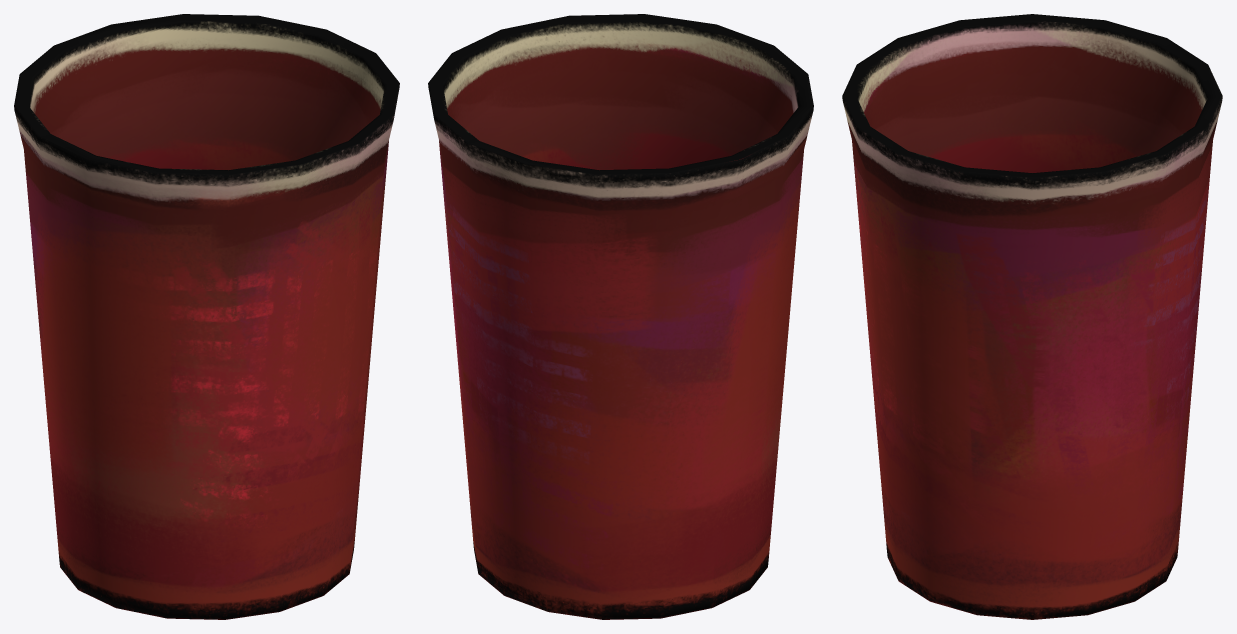
Rendered from redcup.glb.
3 views of the same model, side by side, from view 1: azimuth 30°, elevation 25°; view 2: azimuth 150°, elevation 25°; view 3: azimuth 270°, elevation 25° (orthographic).
Visible parts, largest first — view 1: Cup1; view 2: Cup1; view 3: Cup1.
Part boxes in pixels (x1,y1,x2,y2): Cup1: (14, 14, 399, 619); Cup1: (428, 14, 813, 619); Cup1: (842, 14, 1222, 619).
Bounding box in the file's own units: 0.3135 × 0.4109 × 0.3071.
Materials: 1 (1 with a texture image).
